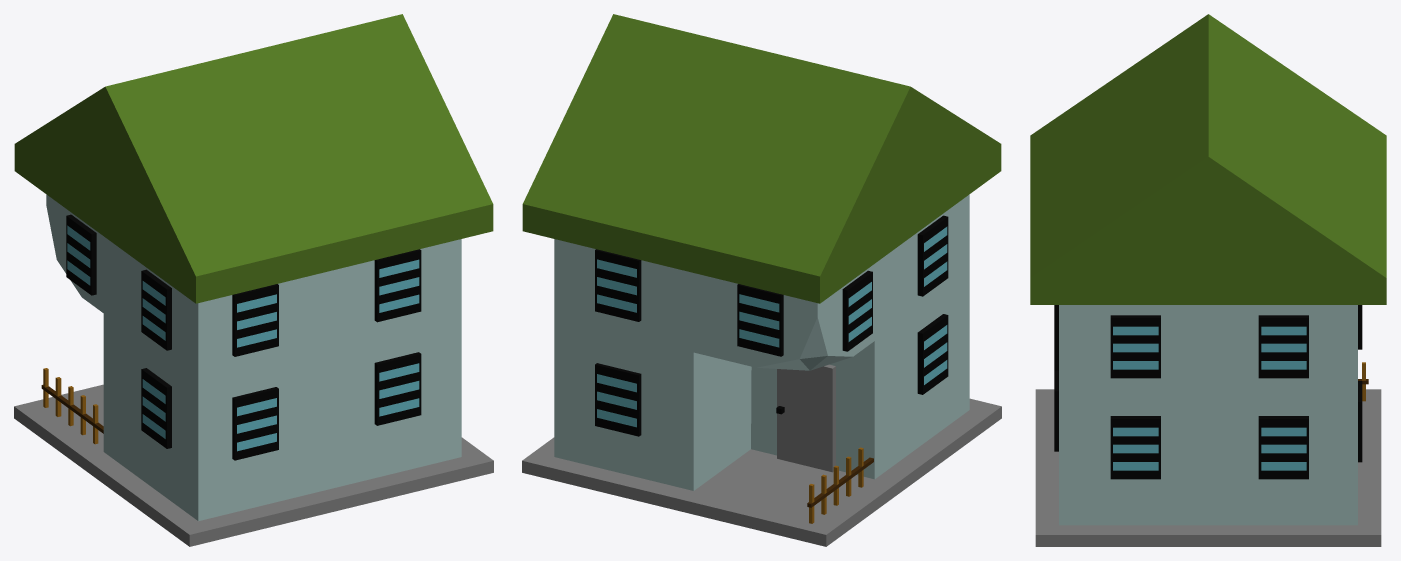
Rendered from House18.fbx.
The picture shows the model from 3 angles, left to right: view 1: azimuth 30°, elevation 25°; view 2: azimuth 150°, elevation 25°; view 3: azimuth 270°, elevation 25°; orthographic projection.
Visible parts, largest first — view 1: House.018; view 2: House.018; view 3: House.018.
Part boxes in pixels (<box>): House.018: <box>14,14,493,546</box>; House.018: <box>522,14,1001,546</box>; House.018: <box>1030,14,1386,546</box>.
Size of the model in its own units: 713 by 885 by 736.
